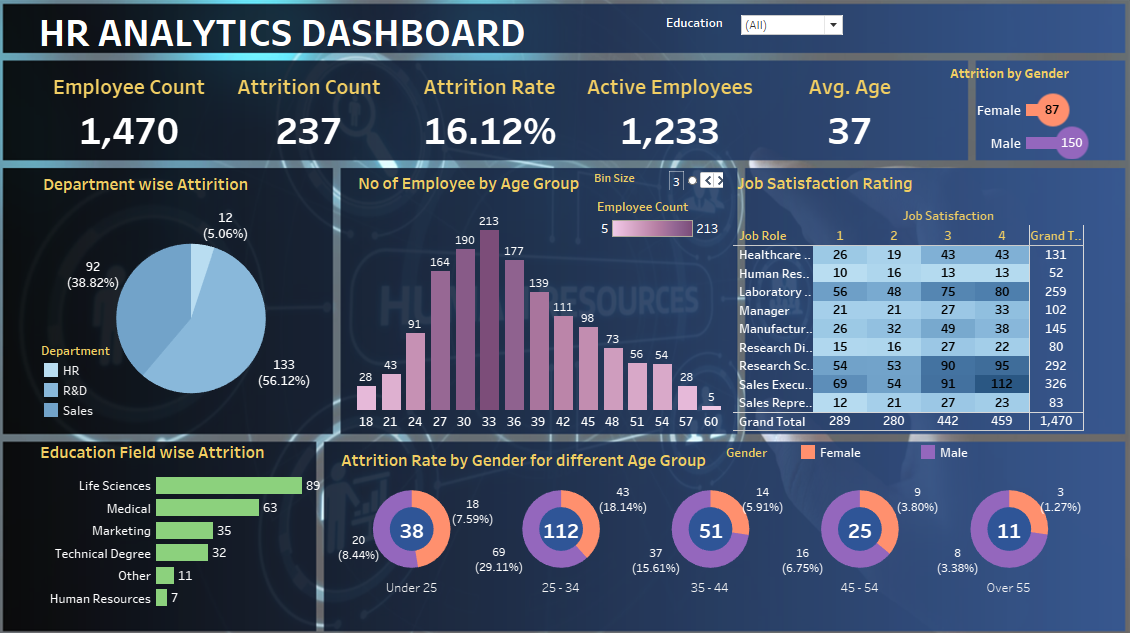

The dashboard page shown, as its layout file describes it:
{"tool":"tableau","page":{"name":"HR ANALYTICS DASHBOARD","canvas":[1000,1000],"units":"permille","ordinal":0},"visuals":[{"type":"filter","title":"Department wise Attirition","param":"[federated.06h8alu0m7hydh1dp952k0g408nr].[none:Education:nk]","box":[586.4,9.1,152.8,59.8]},{"type":"worksheet","title":"KPI","mark":"Automatic","box":[55.3,88.8,763.4,164.9]},{"type":"worksheet","title":"Attrition by Gender","mark":"Bar","rows":["Gender"],"cols":["Calculation_933933976885538816","Calculation_933933976885538816"],"box":[823.8,88.8,122.6,164.9]},{"type":"worksheet","title":"No of Employee by Age Group","mark":"Automatic","rows":["Employee Count"],"cols":["Age (bin)"],"box":[322.1,268.1,313.5,438.4]},{"type":"parameter","param":"[Parameters].[Parameter 1]","box":[525,268.1,112.3,36.2]},{"type":"worksheet","title":"Job Satisfaction Rating","mark":"Square","rows":["Job Role"],"cols":["Job Satisfaction"],"box":[643.4,268.1,297.1,438.4]},{"type":"worksheet","title":"Department wise Attirition","mark":"Pie","box":[55.3,269.9,257.3,436.6]},{"type":"legend","title":"No of Employee by Age Group","param":"[federated.06h8alu0m7hydh1dp952k0g408nr].[sum:Employee Count:qk]","box":[527.6,318.8,107.1,76.1]},{"type":"legend","title":"Department wise Attirition","param":"[federated.06h8alu0m7hydh1dp952k0g408nr].[none:Department:nk]","box":[57,558,72.5,152.2]},{"type":"worksheet","title":"Education Field wise Attrition","mark":"Automatic","rows":["Education Field"],"cols":["Calculation_933933976885538816"],"box":[52.7,717.4,251.3,286.2]},{"type":"legend","title":"Attrition Rate by Gender for different Age Group","param":"[federated.06h8alu0m7hydh1dp952k0g408nr].[none:Gender:nk]","box":[637.3,724.6,274.6,38]},{"type":"worksheet","title":"Attrition Rate by Gender for different Age Group","mark":"Pie","rows":["Calculation_697213521823457281","Calculation_697213521823457281"],"cols":["CF_age band"],"box":[307.4,730.1,633,269.9]}]}

Visuals, with their boxes on the dashboard's canvas, which has no fixed pixel size, in thousandths of its width and height (x1, y1, x2, y2). These are canvas units, not pixel positions in the 1131x633 screenshot, which may show the page scaled, cropped or inside an application window:
"Department wise Attirition" filter: bbox=[586, 9, 739, 69]
"KPI" worksheet: bbox=[55, 89, 819, 254]
"Attrition by Gender" worksheet (Bar marks): bbox=[824, 89, 946, 254]
"No of Employee by Age Group" worksheet: bbox=[322, 268, 636, 706]
parameter: bbox=[525, 268, 637, 304]
"Job Satisfaction Rating" worksheet (Square marks): bbox=[643, 268, 940, 706]
"Department wise Attirition" worksheet (Pie marks): bbox=[55, 270, 313, 706]
"No of Employee by Age Group" legend: bbox=[528, 319, 635, 395]
"Department wise Attirition" legend: bbox=[57, 558, 130, 710]
"Education Field wise Attrition" worksheet: bbox=[53, 717, 304, 1004]
"Attrition Rate by Gender for different Age Group" legend: bbox=[637, 725, 912, 763]
"Attrition Rate by Gender for different Age Group" worksheet (Pie marks): bbox=[307, 730, 940, 1000]
